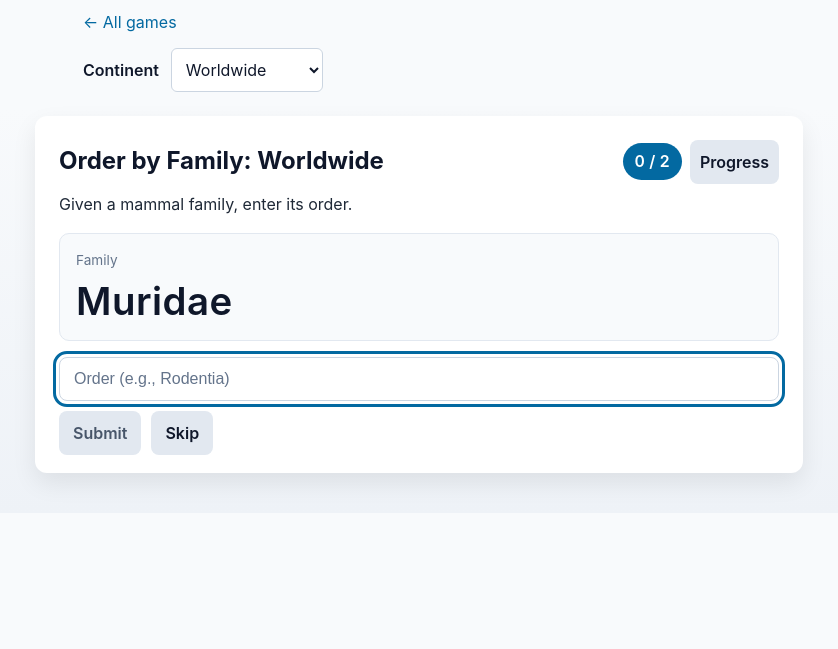
Test: order input offers case-insensitive typeahead and allows typed answers
Type "roD" into the field labelled "Order" at (419, 379), box [59,357,779,401]
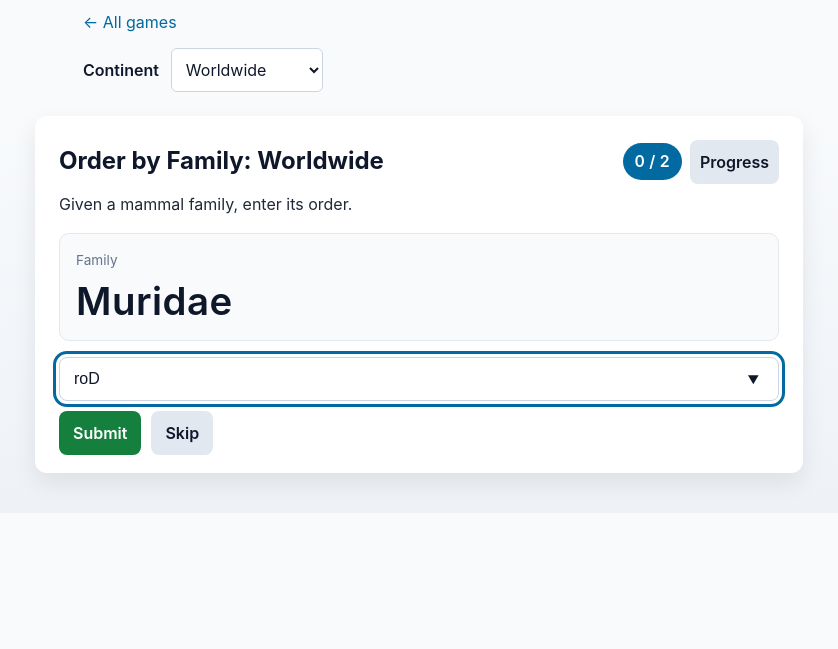
Replace the text in the field named "Order" with "unknown" at (419, 379), box [59,357,779,401]
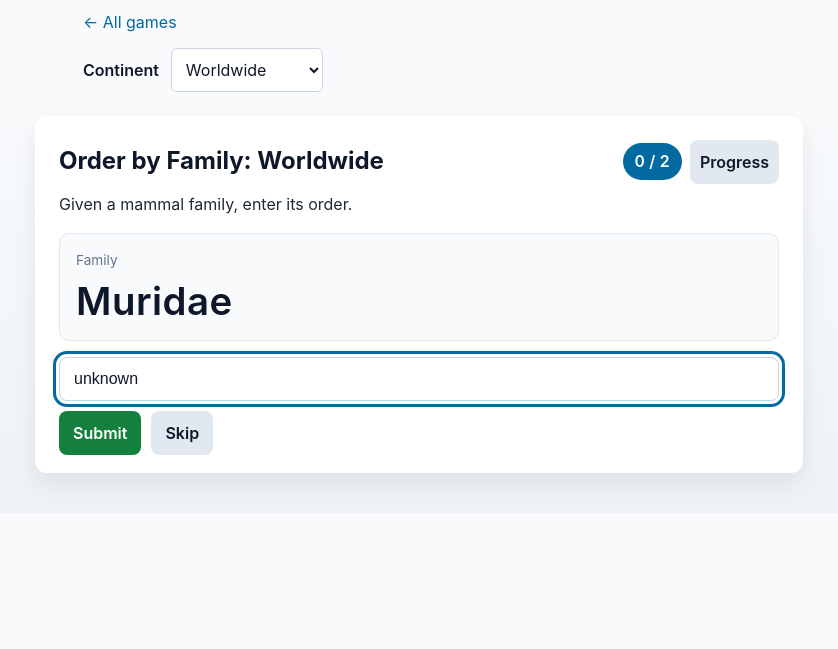
Replace the text in the field named "Order" with "  RODENTIA  " at (419, 379), box [59,357,779,401]
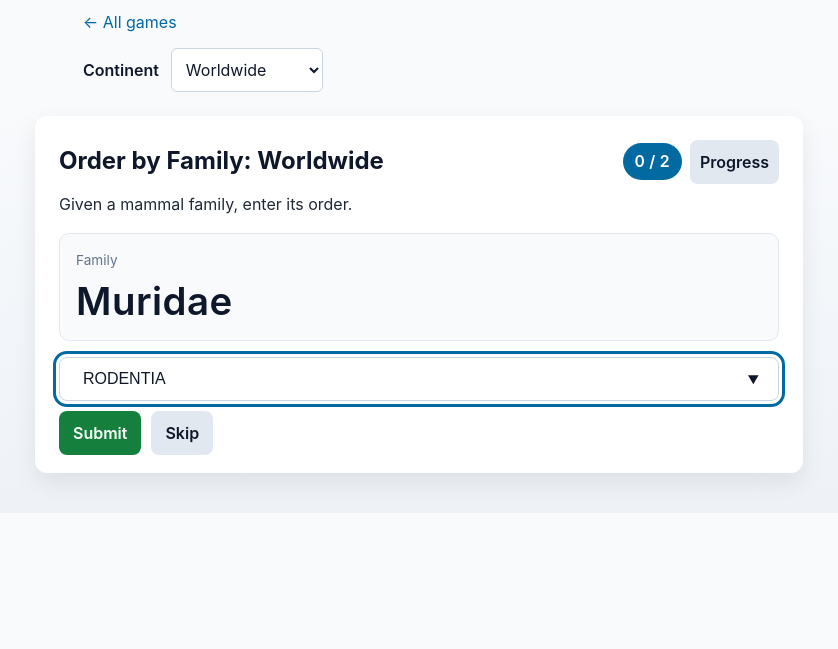
Click the button "Submit" at (100, 433), box [59,411,141,455]
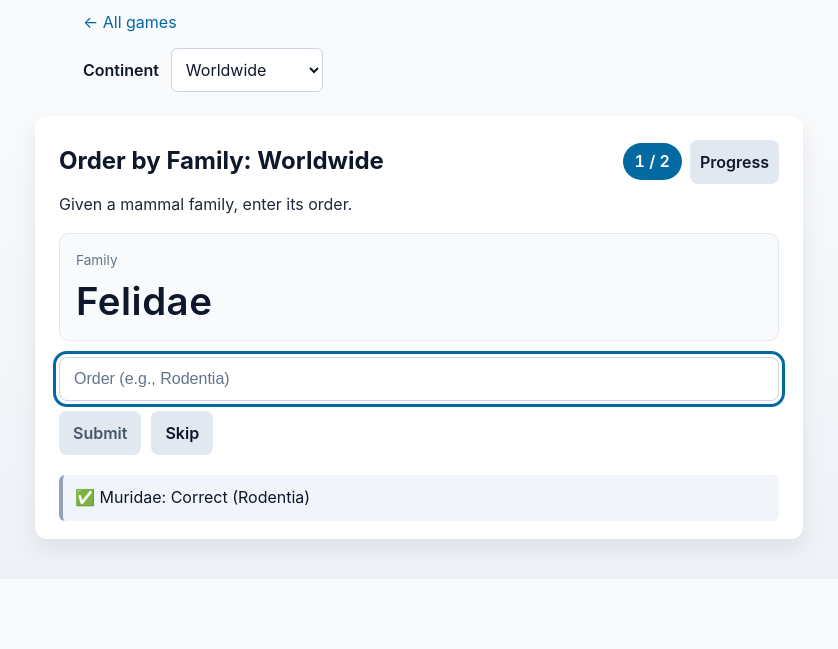
Now the text titled "Finished / Total" reads "1 / 2", box [622,143,682,180]
Now the field labelled "Order" is empty
Type "Unknown" into the field labelled "Order" at (419, 379), box [59,357,779,401]
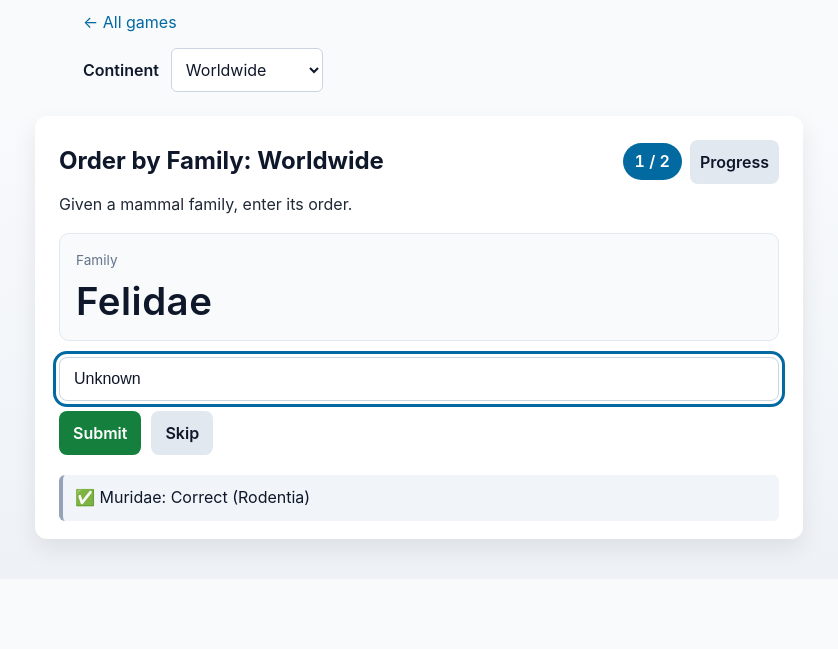
Click the button "Submit" at (100, 433), box [59,411,141,455]
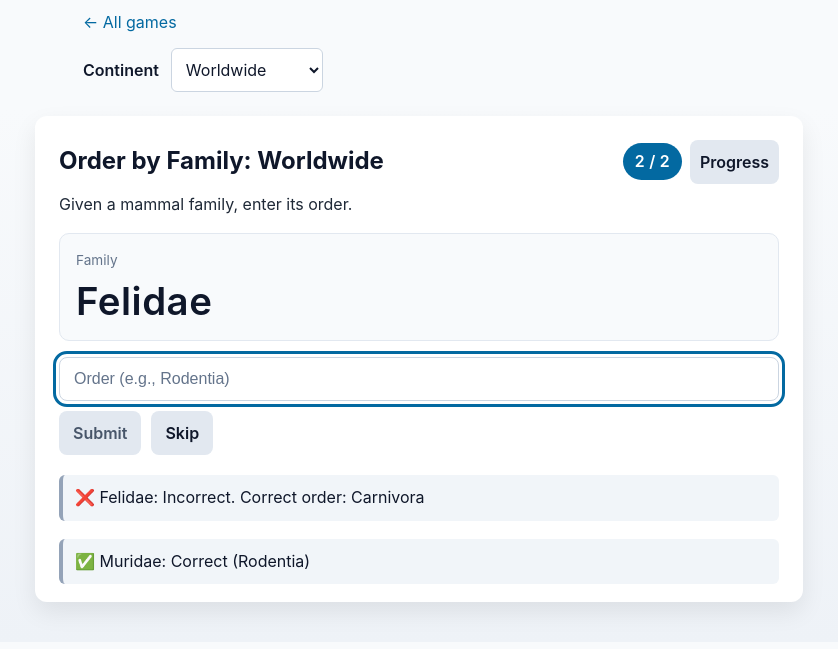
Now the text titled "Finished / Total" reads "2 / 2", box [622,143,682,180]
Now the text "❌ Felidae: Incorrect. Correct order: Carnivora" is shown, box [59,475,779,521]
